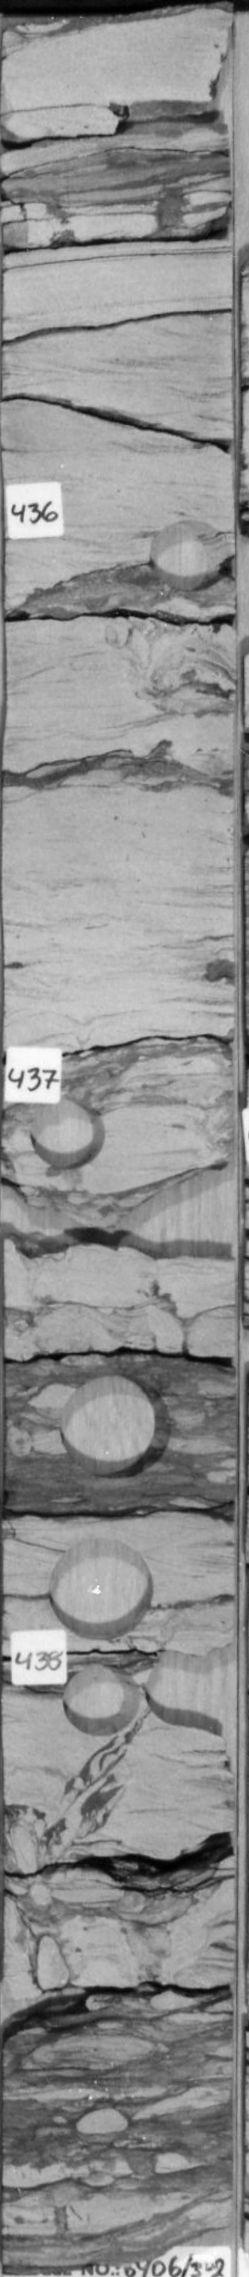hplug: (133, 510, 232, 604), (57, 1657, 146, 1740), (25, 1095, 111, 1178)
scal: (39, 1532, 162, 1645), (55, 1371, 173, 1483)
